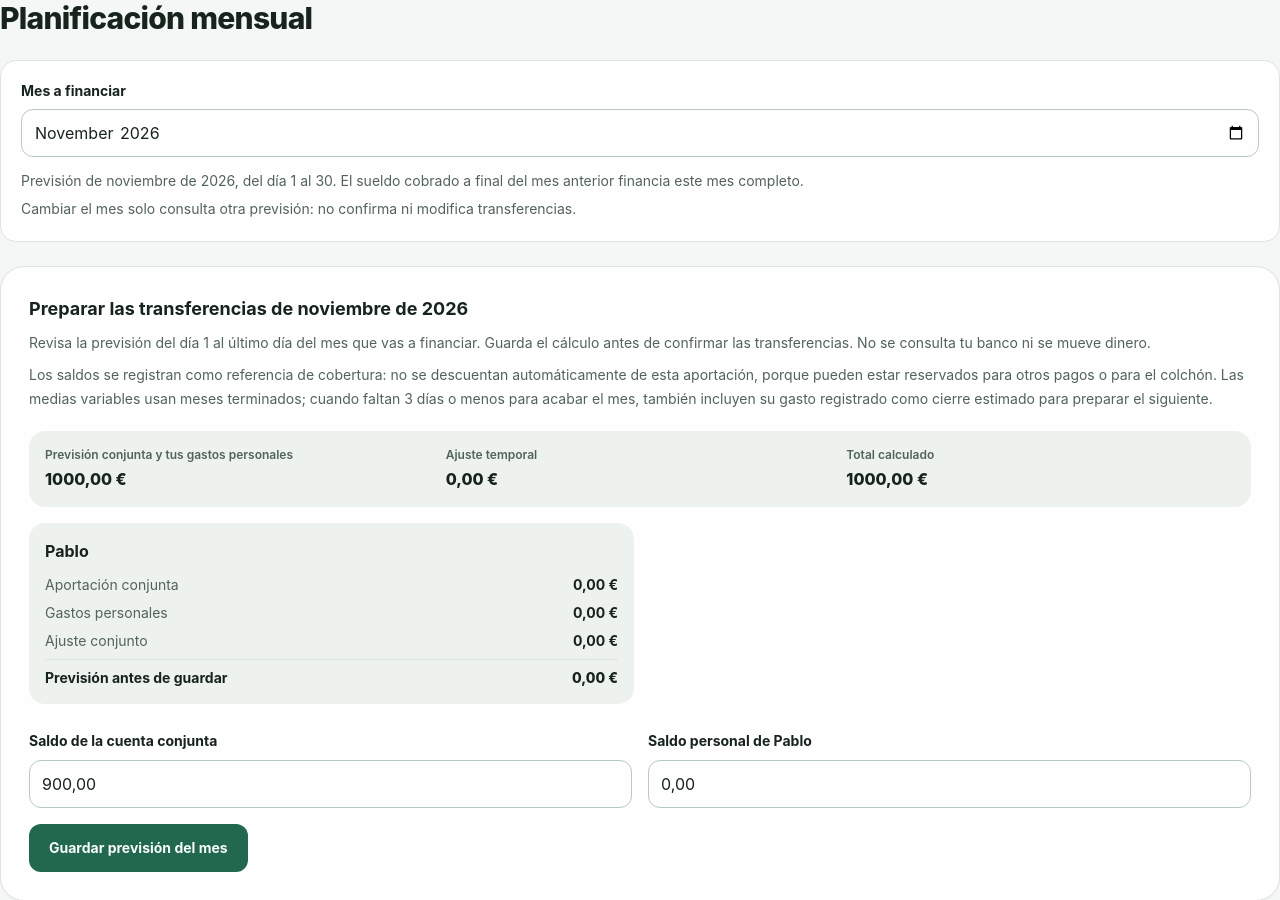
it: PlanningPage salary month forecast › month switch clears balances, uses isolated cache keys and never falls back to another saved month
This screenshot has width=1280, height=900.
Replace the text in the field labelled "Saldo de la cuenta conjunta" with "1234" at (330, 784), box [29, 760, 632, 808]
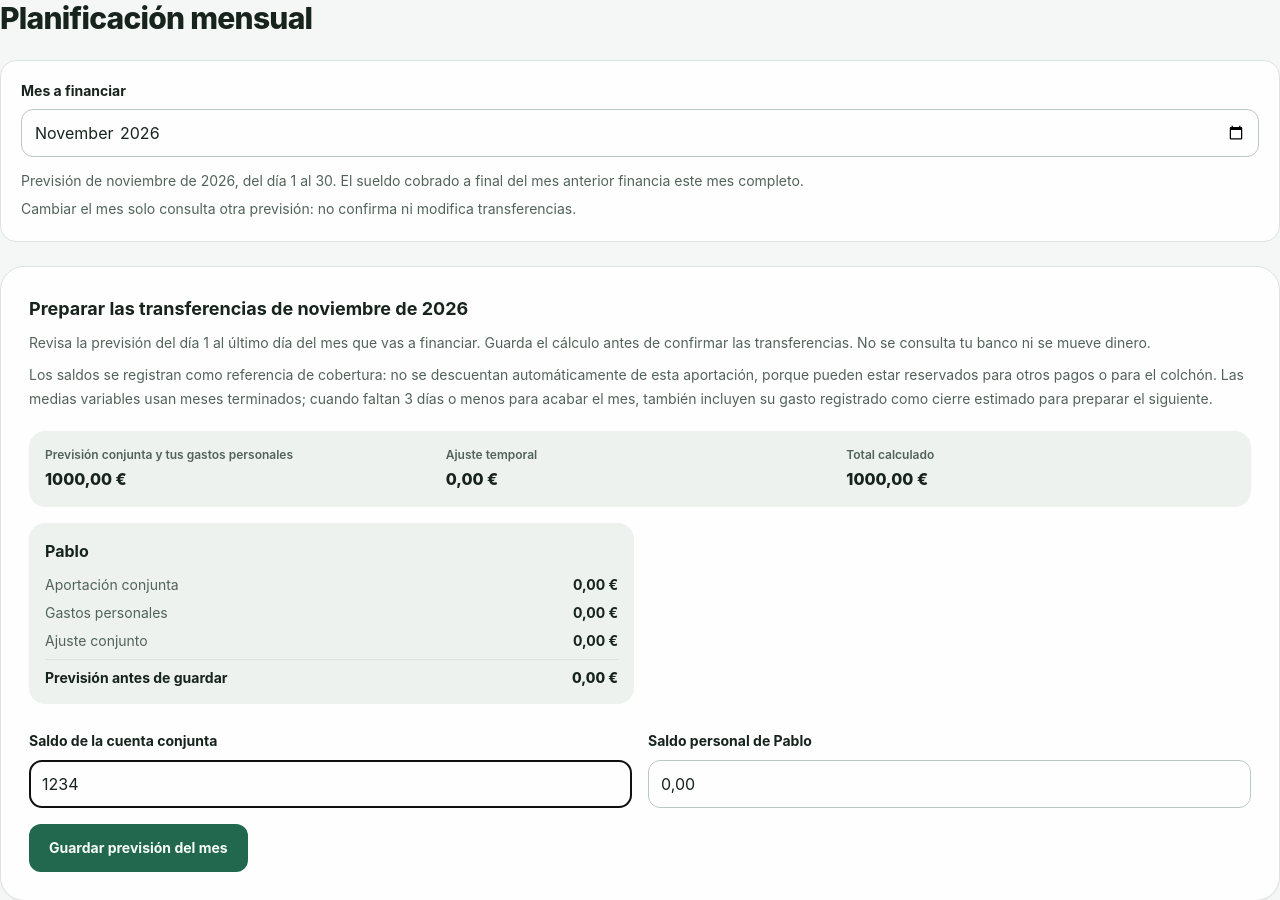
Replace the text in the field labelled "Mes a financiar" with "2026-12" at (640, 133), box [21, 109, 1259, 157]
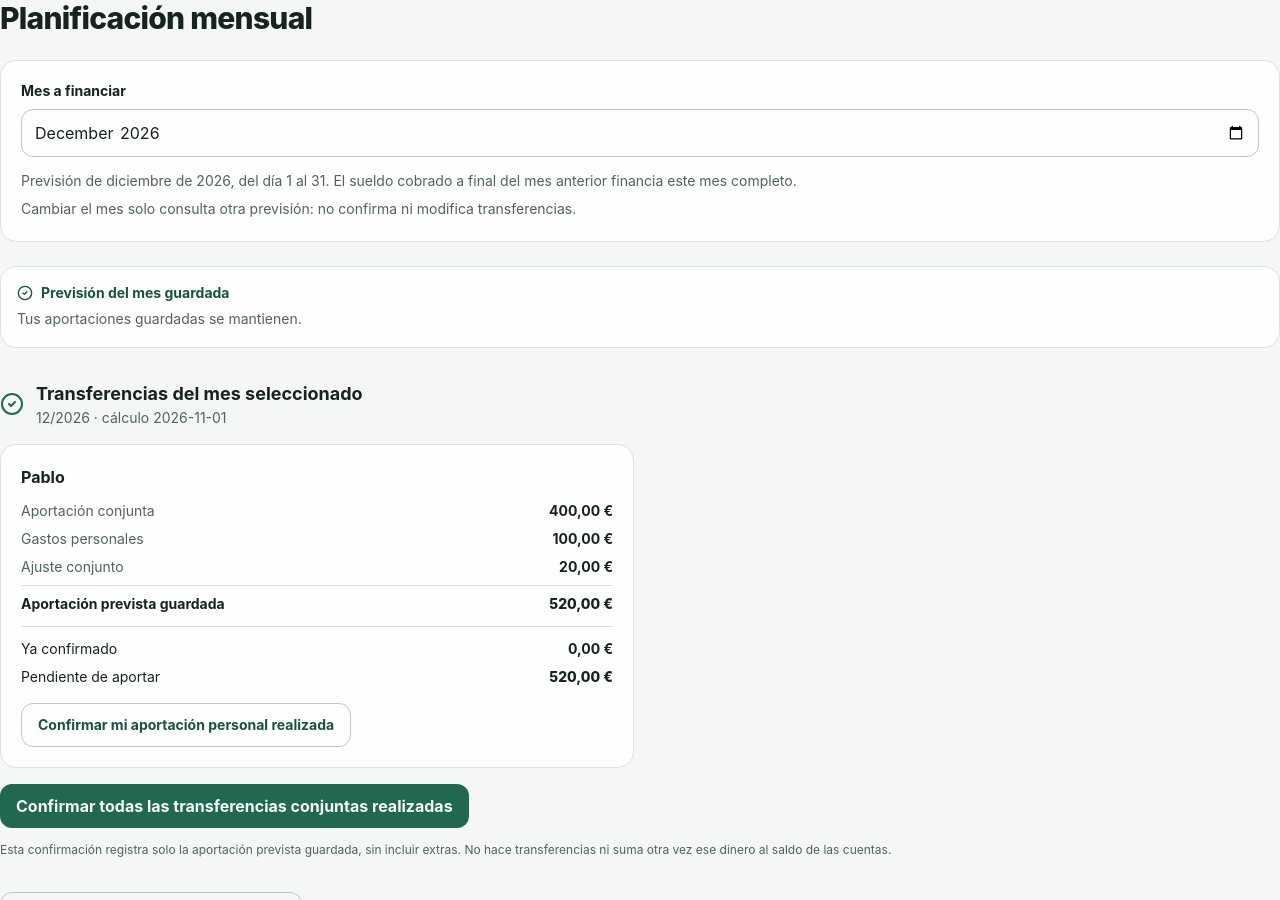
expect the heading "Previsión del mes guardada" is shown: met, box [17, 284, 230, 301]
expect the label labelled "Saldo de la cuenta conjunta" is gone: met
Replace the text in the field labelled "Mes a financiar" with "2026-11" at (640, 133), box [21, 109, 1259, 157]
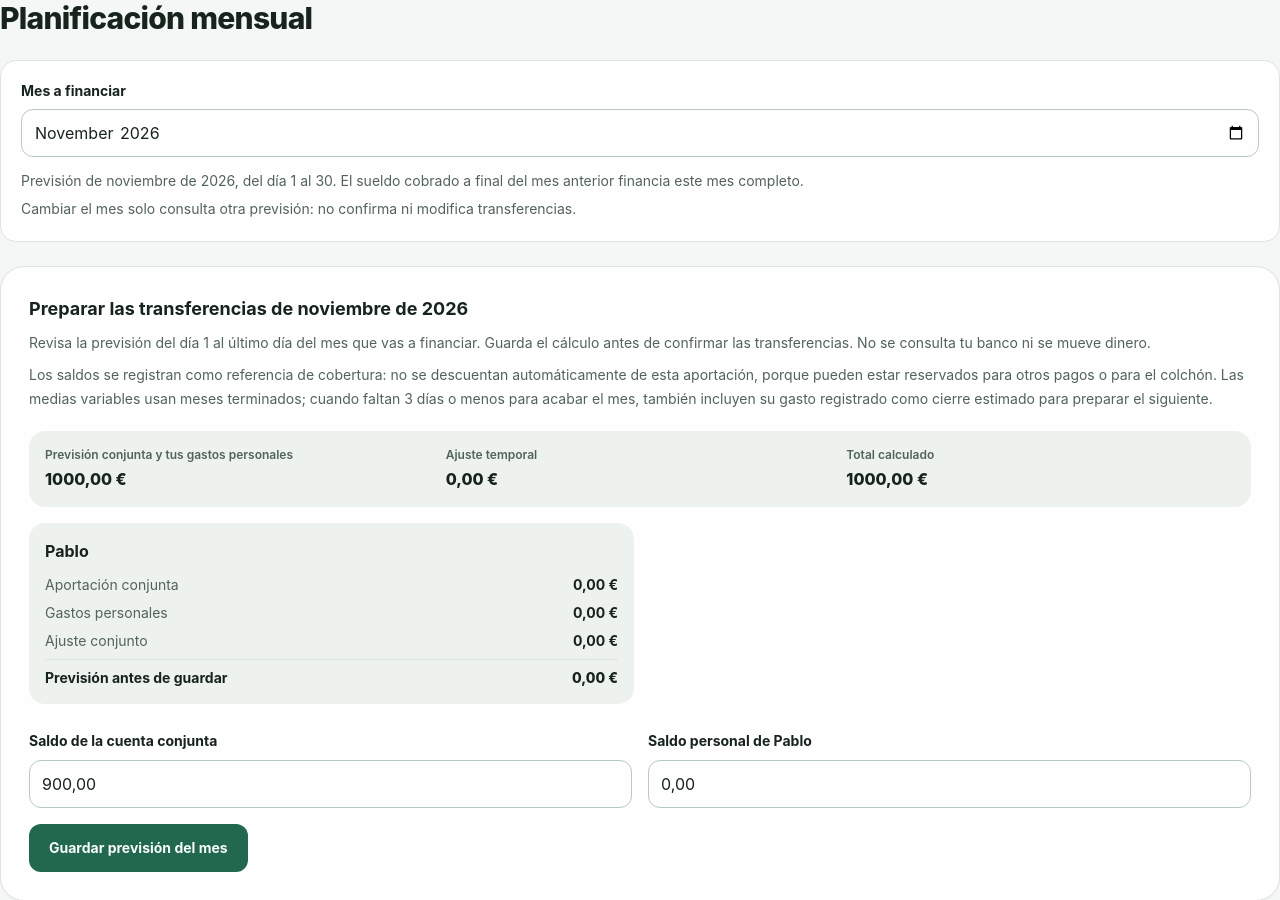
expect the field labelled "Saldo de la cuenta conjunta" holds "900,00": met, box [29, 760, 632, 808]
expect the heading "Transferencias del mes seleccionado" is gone: met
